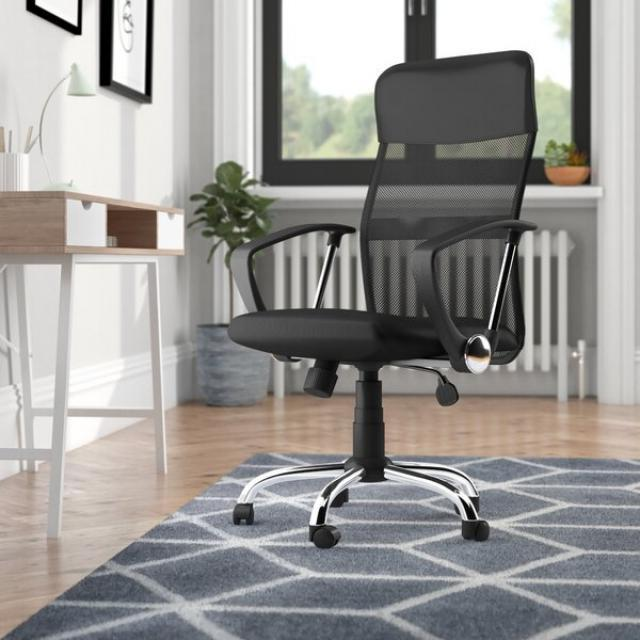chair: (231, 39, 550, 514)
